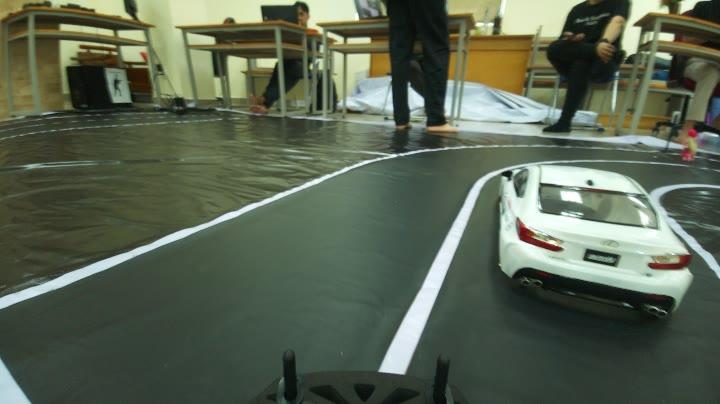car: (493, 140, 701, 319)
